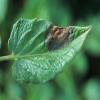Tomato leaf late blight: (6, 13, 95, 86)
